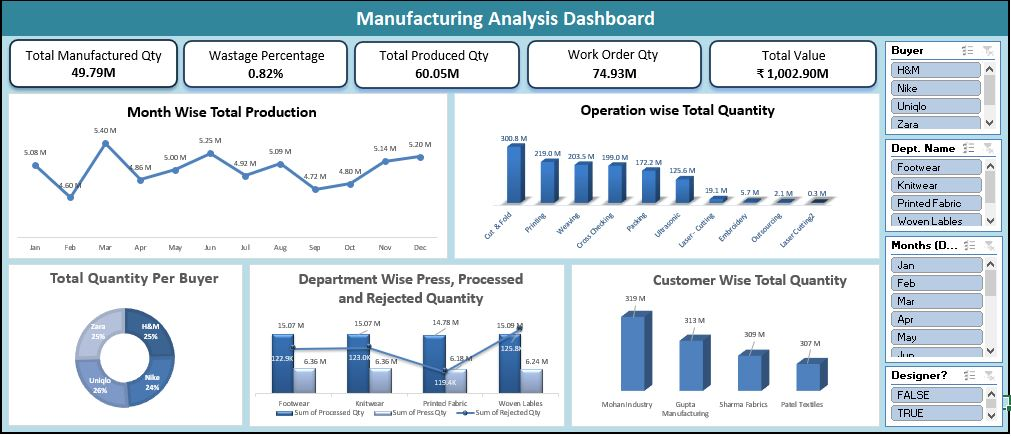

The page's visual inventory and layout, read from the dashboard file:
{"tool":"powerbi","page":{"name":"Page 1","canvas":[1280,720],"ordinal":0},"visuals":[{"type":"stackedAreaChart","title":"Month Wise Total Production","fields":{"Category":["Sheet1.Date.Variation.Date Hierarchy.Month"],"Y":["Sum(Sheet1.Produced Qty)"]},"box":[304,213.5,335.4,214.7],"z":0},{"type":"barChart","title":"Total Qty based on  Parameter selected","fields":{"Category":["Sheet1.Operation Name"],"Y":["Sum(Sheet1.TotalQty)"]},"box":[650.3,213.5,336.6,223.2],"z":1000},{"type":"donutChart","title":"Total Quantity Per Buyer ","fields":{"Category":["Sheet1.Buyer"],"Y":["Sum(Sheet1.TotalQty)"]},"box":[8.4,213.5,282.3,214.7],"z":2000},{"type":"treemap","fields":{"Group":["Sheet1.Cust Name"],"Values":["Sum(Sheet1.TotalQty)"]},"box":[329.3,455.6,299.1,247],"z":3000},{"type":"lineStackedColumnComboChart","title":"Department Wise Processed Qty ","fields":{"Category":["Sheet1.Department Name"],"Y":["Sum(Sheet1.Processed Qty)"]},"box":[8.2,456.9,310.1,245.6],"z":4000},{"type":"lineChart","title":"Rejected Qty by Buyer","fields":{"Category":["Sheet1.Buyer"],"Y":["Sum(Sheet1.Rejected Qty)"]},"box":[650.4,455.6,290.9,248.4],"z":5000},{"type":"card","title":"Manufactured Qty","fields":{"Values":["Sum(Total manufactured quantity.Sum of today Manufactured qty)"]},"box":[528.7,95.8,159.2,61],"z":6000},{"type":"card","title":"Produced Qty","fields":{"Values":["Sum(Sheet1.Produced Qty)"]},"box":[355.8,97,163,59.7],"z":7000},{"type":"card","title":"WO Qty","fields":{"Values":["Sum(Work Order Quantity.Sum of WO Qty)"]},"box":[528.7,24.9,150.5,58.5],"z":8000},{"type":"card","title":"Wastage Percentage\n","fields":{"Values":["Sum(Wastage %age.Column5)"]},"box":[355.8,24.9,163,58.5],"z":9000},{"type":"card","title":"Total Value\n","fields":{"Values":["Sum(Total Value.Sum of TotalValue)"]},"box":[687.9,24.9,154.3,61],"z":10000},{"type":"slicer","title":"Buyer","fields":{"Values":["Sheet1.Buyer"]},"box":[1066.5,18.1,199.1,78.4],"z":11000},{"type":"slicer","title":"Date","fields":{"Values":["Sheet1.Date.Variation.Date Hierarchy.Month"]},"box":[1067.7,106.2,199.1,79.6],"z":12000},{"type":"slicer","title":"Department Name ","fields":{"Values":["Sheet1.Department Name"]},"box":[855.8,24.9,199,61],"z":13000},{"type":"textbox","box":[56.3,53.8,311.8,63.6],"z":14000},{"type":"card","title":"Rejected Qty","fields":{"Values":["Sum(Sheet1.Rejected Qty)"]},"box":[697.9,95.8,144.3,61],"z":15000},{"type":"image","box":[0,36.7,72.1,80.7],"z":16000},{"type":"clusteredBarChart","title":"Rejected Quantity by Cust Code","fields":{"Category":["Sheet1.Cust Code"],"Y":["Sum(Sheet1.Rejected Qty)"]},"box":[1000.1,213.5,265.4,223.2],"z":17000},{"type":"pieChart","title":"Produced Quantity by Cust Code","fields":{"Category":["Sheet1.Cust Code"],"Y":["Sum(Sheet1.Produced Qty)"]},"box":[977.2,456,288.3,248.5],"z":18000},{"type":"slicer","title":"Select Parameter ","fields":{"Values":["Parameter1.Parameter1"]},"box":[855.8,95.8,199,100.8],"z":19000}]}

Visuals, with their boxes on the page's 1280x720 design canvas (x1, y1, x2, y2). These are canvas units, not pixel positions in the 1011x437 screenshot, which may show the page scaled, cropped or inside an application window:
"Month Wise Total Production" stackedAreaChart: [304,214,639,428]
"Total Qty based on  Parameter selected" barChart: [650,214,987,437]
"Total Quantity Per Buyer " donutChart: [8,214,291,428]
treemap - Sheet1.Cust Name x Sum(Sheet1.TotalQty): [329,456,628,703]
"Department Wise Processed Qty " lineStackedColumnComboChart: [8,457,318,702]
"Rejected Qty by Buyer" lineChart: [650,456,941,704]
"Manufactured Qty" card: [529,96,688,157]
"Produced Qty" card: [356,97,519,157]
"WO Qty" card: [529,25,679,83]
"Wastage Percentage
" card: [356,25,519,83]
"Total Value
" card: [688,25,842,86]
"Buyer" slicer: [1066,18,1266,96]
"Date" slicer: [1068,106,1267,186]
"Department Name " slicer: [856,25,1055,86]
textbox: [56,54,368,117]
"Rejected Qty" card: [698,96,842,157]
image: [0,37,72,117]
"Rejected Quantity by Cust Code" clusteredBarChart: [1000,214,1266,437]
"Produced Quantity by Cust Code" pieChart: [977,456,1266,704]
"Select Parameter " slicer: [856,96,1055,197]
